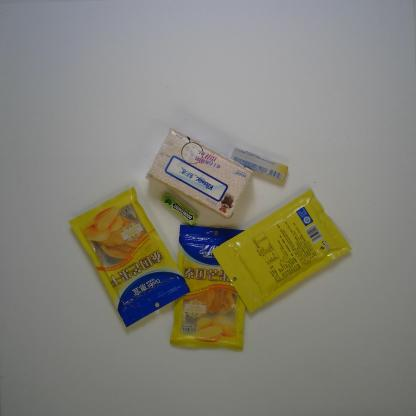Candy: (231, 146, 288, 182)
Dried Fruit: (211, 187, 354, 314), (68, 186, 190, 328), (169, 225, 252, 351)
Gum: (160, 192, 198, 225)
Tissue: (146, 127, 254, 220)
